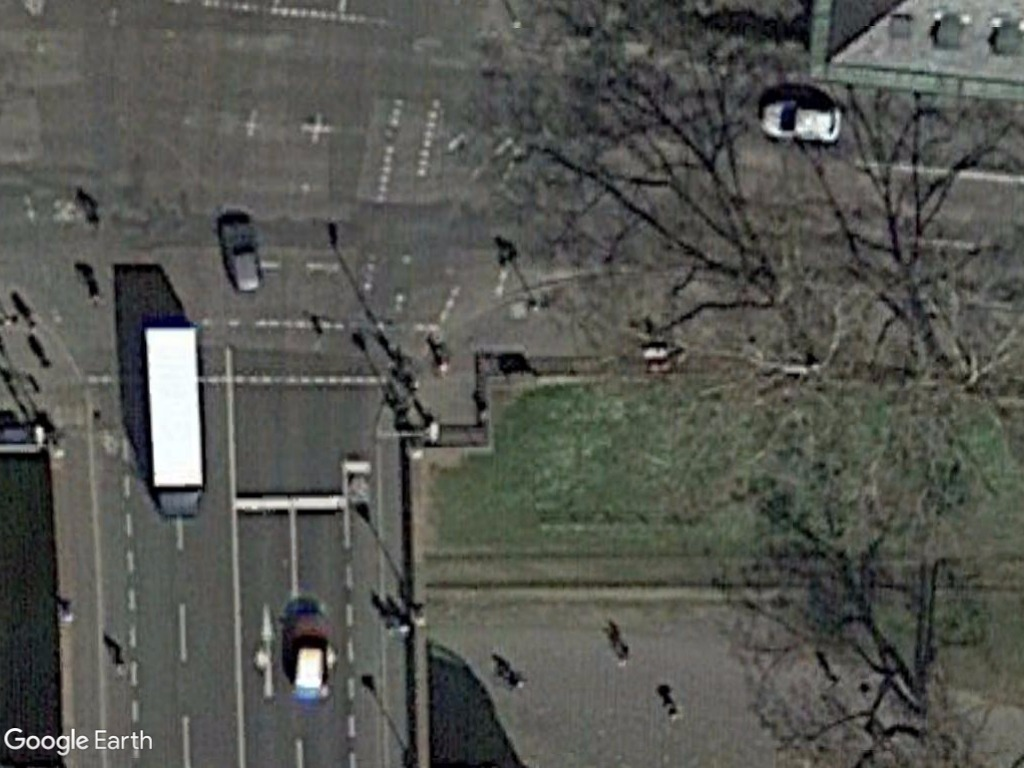car: (755, 95, 845, 145)
truck: (139, 320, 211, 526)
